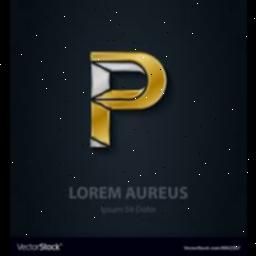p: (77, 41, 167, 157)
